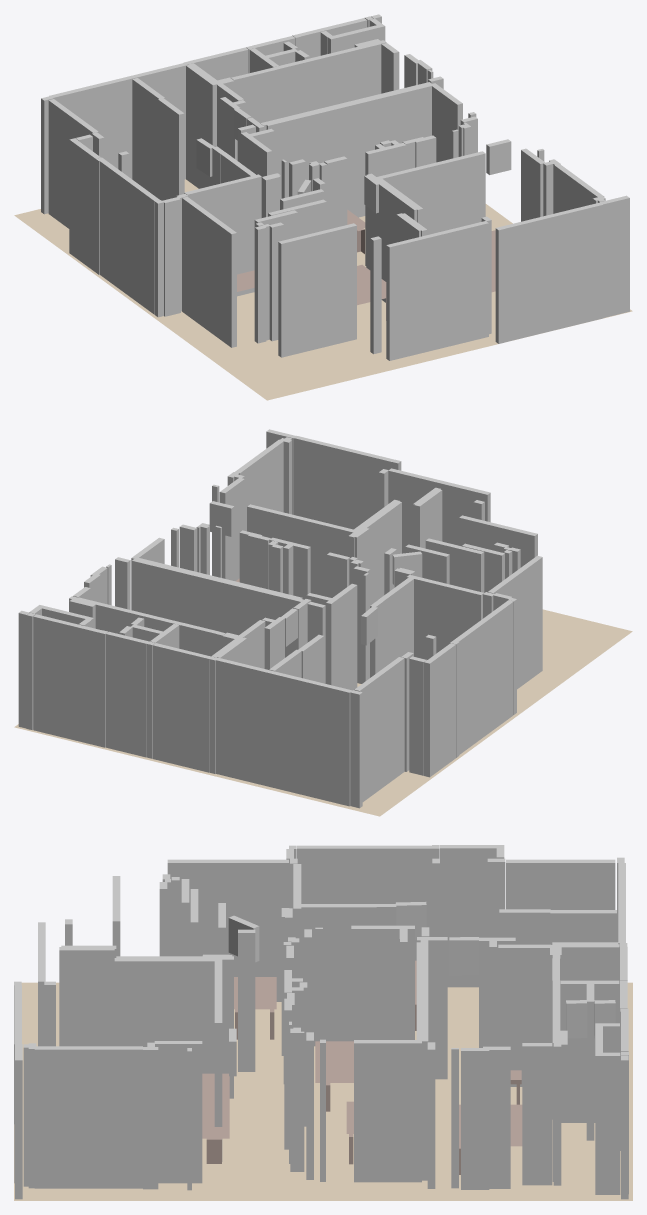
The picture shows the model from 3 angles, top to bottom: view 1: azimuth 30°, elevation 25°; view 2: azimuth 150°, elevation 25°; view 3: azimuth 270°, elevation 25°; orthographic projection. The views are drawn at different scales.
Parts seen in each view (by area): view 1: floor, wall_23, wall_40, wall_86, wall_21, wall_1, wall_19, wall_13, wall_37, wall_67, wall_15, wall_11 (+37 smaller); view 2: wall_13, wall_61, floor, wall_103, wall_40, wall_56, wall_1, wall_11, wall_59, wall_15, wall_37, wall_23 (+44 smaller); view 3: floor, wall_45, wall_100, wall_36, wall_19, wall_1, wall_81, wall_74, wall_73, wall_11, wall_35, wall_3 (+62 smaller).
Boxes of the visible parts, x1,y1,x2,y2 form: floor: (14,179,632,400); wall_23: (386,221,488,360); wall_40: (502,202,603,342); wall_86: (265,83,432,217); wall_21: (278,223,356,357); wall_1: (99,160,159,314); wall_19: (182,196,236,347); wall_13: (50,63,186,179); wall_37: (376,151,485,234); wall_67: (279,42,380,117); wall_15: (184,174,261,296); wall_11: (48,99,98,228); wall_13: (216,658,352,806); wall_61: (33,614,102,746); floor: (14,609,632,816); wall_103: (131,558,303,657); wall_40: (293,435,394,529); wall_56: (153,643,211,772); wall_1: (453,600,513,754); wall_11: (354,657,404,801); wall_59: (105,631,148,757); wall_15: (406,575,483,659); wall_37: (247,504,354,596); wall_23: (388,468,490,553); floor: (14,982,632,1200); wall_45: (34,1046,142,1188); wall_100: (354,1040,421,1182); wall_36: (114,958,217,1073); wall_19: (167,859,288,1001); wall_1: (297,845,431,960); wall_81: (351,925,414,1041); wall_74: (154,1041,202,1183); wall_73: (498,944,551,1086); wall_11: (506,859,615,909); wall_35: (59,947,114,1046); wall_3: (440,845,496,987).
Bounding box in the file's own units: 9.43 × 2.8 × 11.3.
